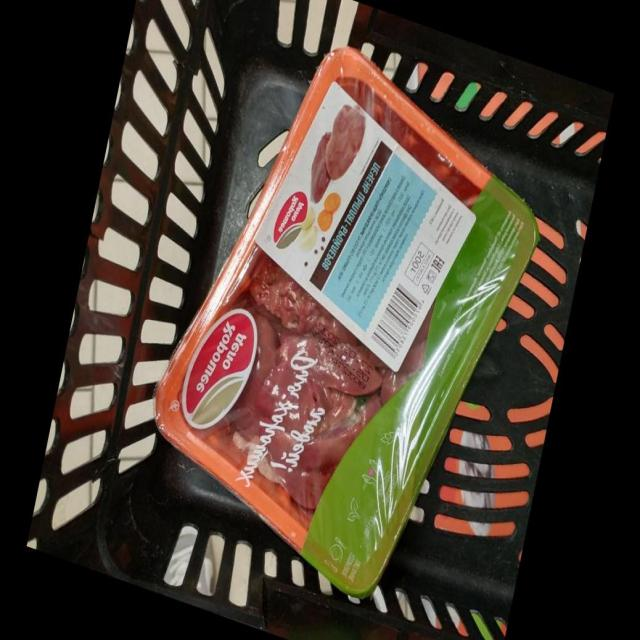Meat: (156, 48, 535, 596)
